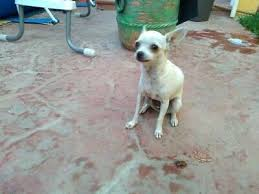chihuahua: (112, 18, 204, 149)
